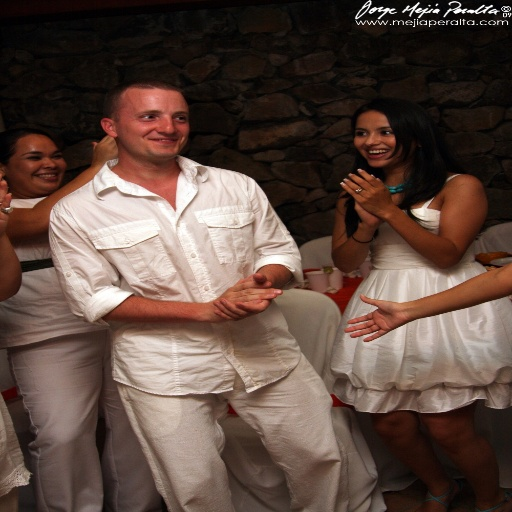hand: (342, 292, 413, 343), (211, 271, 273, 321), (337, 168, 395, 219), (352, 173, 384, 226), (91, 134, 119, 169), (0, 178, 13, 232)
